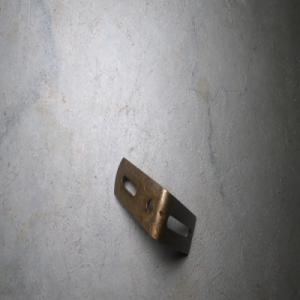MetalPart: (113, 156, 197, 257)
